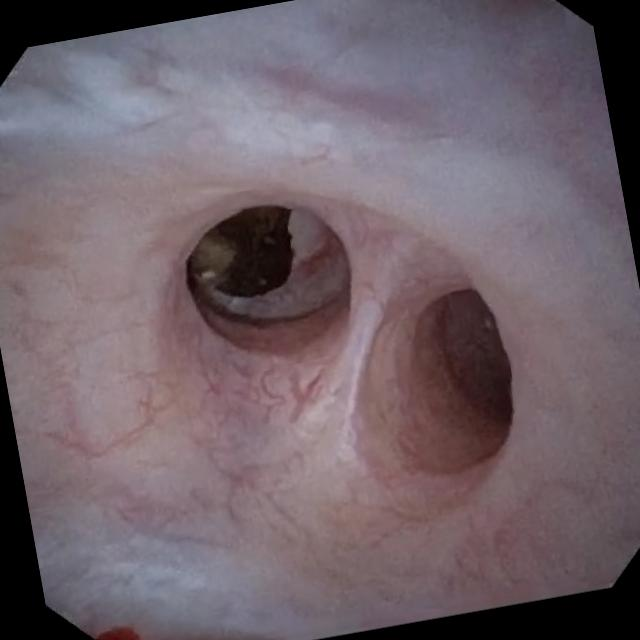stone-new: (187, 210, 293, 298)
